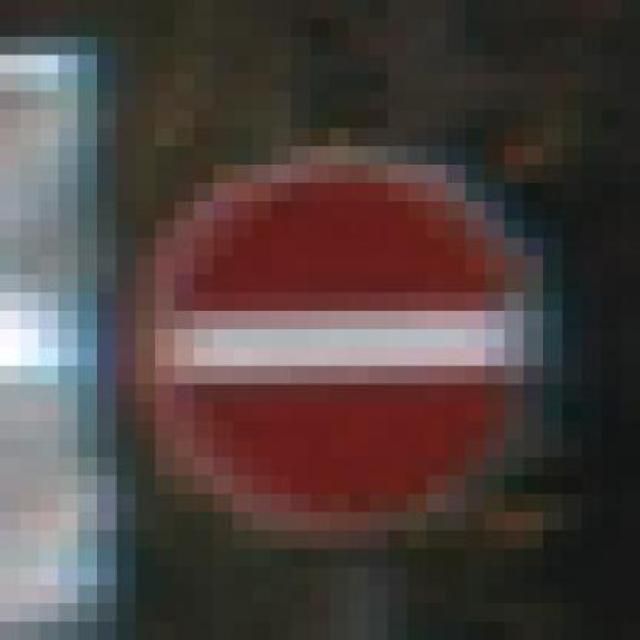B2: (146, 148, 552, 544)
